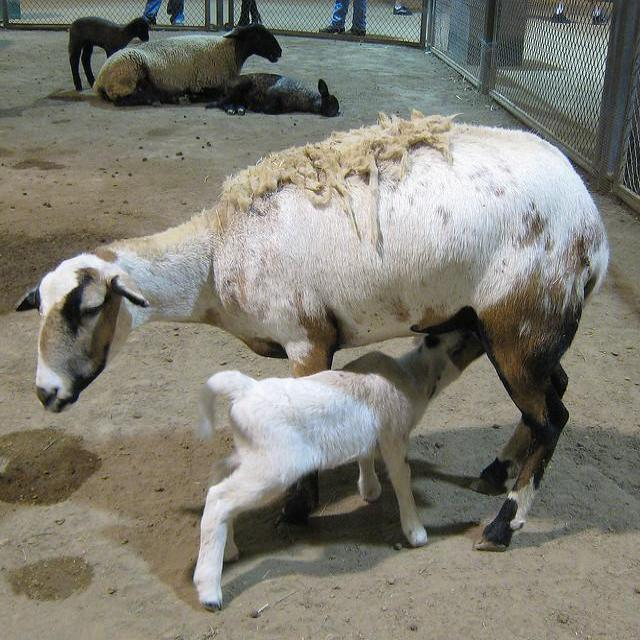Sheep: (14, 117, 607, 548), (188, 322, 491, 612), (99, 24, 281, 101), (205, 72, 341, 118), (68, 17, 151, 91)
